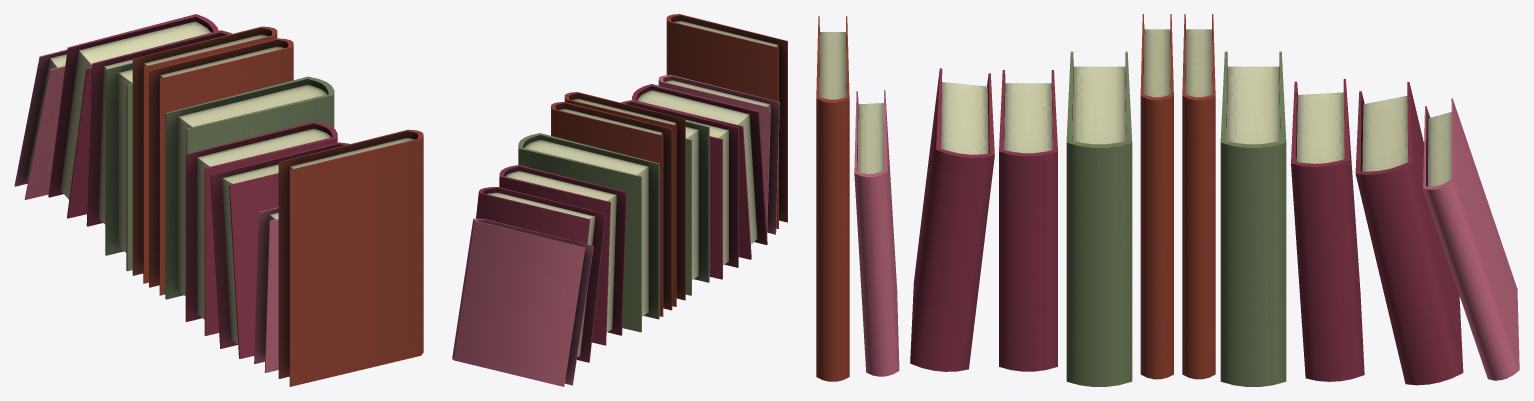
File: book_row_small_1.glb
The picture shows the model from 3 angles, left to right: view 1: azimuth 30°, elevation 25°; view 2: azimuth 150°, elevation 25°; view 3: azimuth 270°, elevation 25°; orthographic projection. The views are drawn at different scales.
Visible parts, largest first — view 1: Small_Book_Row_1.smd; view 2: Small_Book_Row_1.smd; view 3: Small_Book_Row_1.smd.
Boxes of the visible parts, x1,y1,x2,y2 form: Small_Book_Row_1.smd: (14, 14, 423, 386); Small_Book_Row_1.smd: (452, 14, 787, 386); Small_Book_Row_1.smd: (816, 14, 1519, 386).
Bounding box in the file's own units: 0.2199 × 0.2868 × 0.6451.
Materials: 4 (4 with a texture image).
